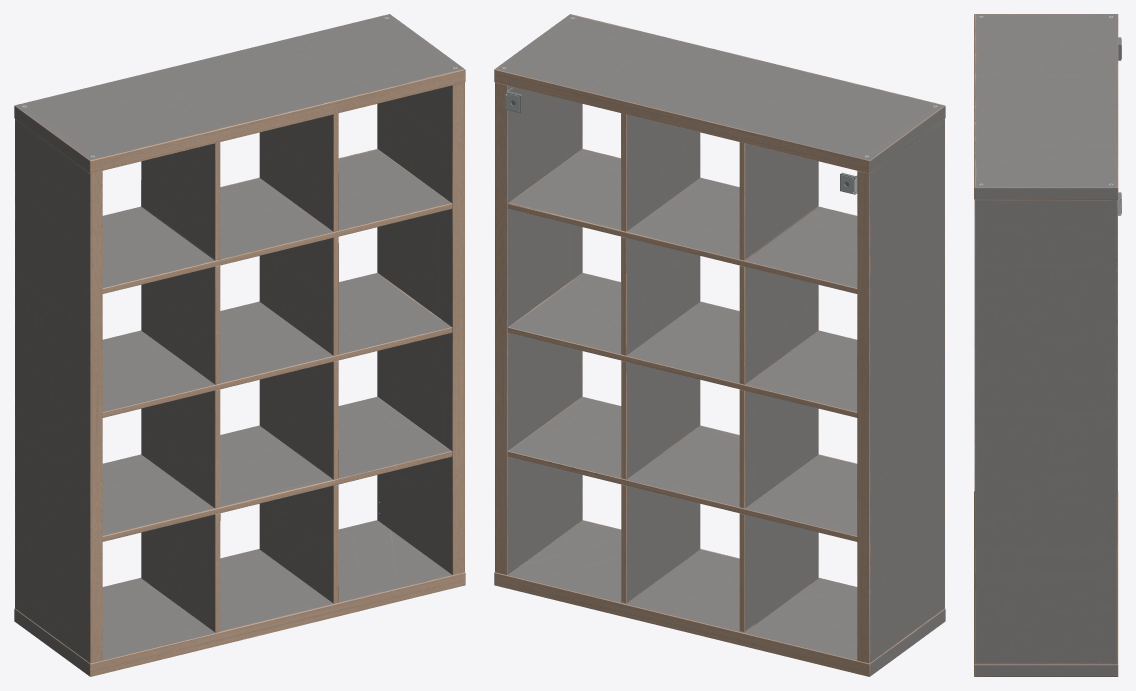
The model's file is KALLAX_40409935.glb.
3 views of the same model, side by side, from view 1: azimuth 30°, elevation 25°; view 2: azimuth 150°, elevation 25°; view 3: azimuth 270°, elevation 25° (orthographic). The views are drawn at different scales.
Visible parts, largest first — view 1: model; view 2: model; view 3: model.
Boxes of the visible parts, bbox=[...] form: model: bbox=[14, 14, 465, 676]; model: bbox=[494, 14, 945, 676]; model: bbox=[974, 14, 1121, 676].
Size of the model in its own units: 1.12 by 1.47 by 0.4015.
1 material, 1 textured.
